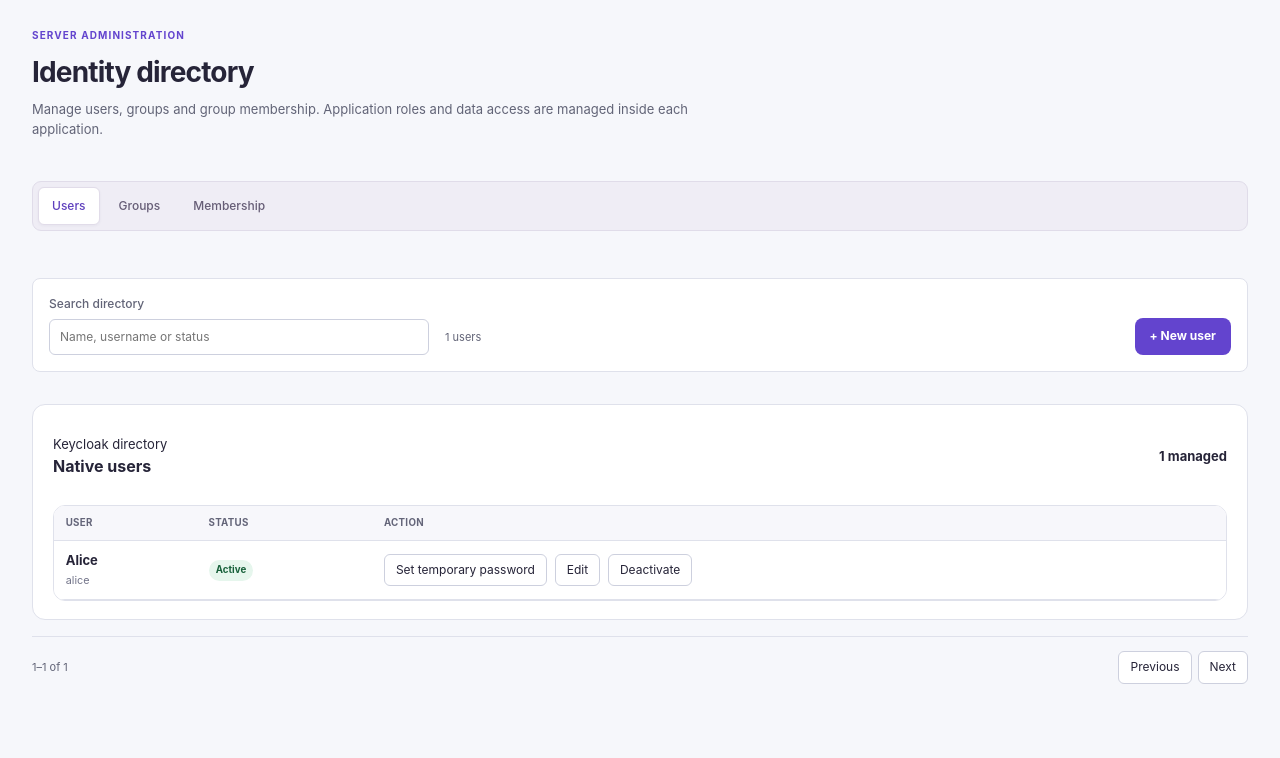
it: creates a native user through the reviewed platform write envelope
The width and height of the screenshot is (1280, 758).
Expected: the text "Alice" is shown, left=66, top=552, right=98, bottom=568
Click the button "+ New user" at {"x": 1183, "y": 336}, box left=1135, top=318, right=1231, bottom=354
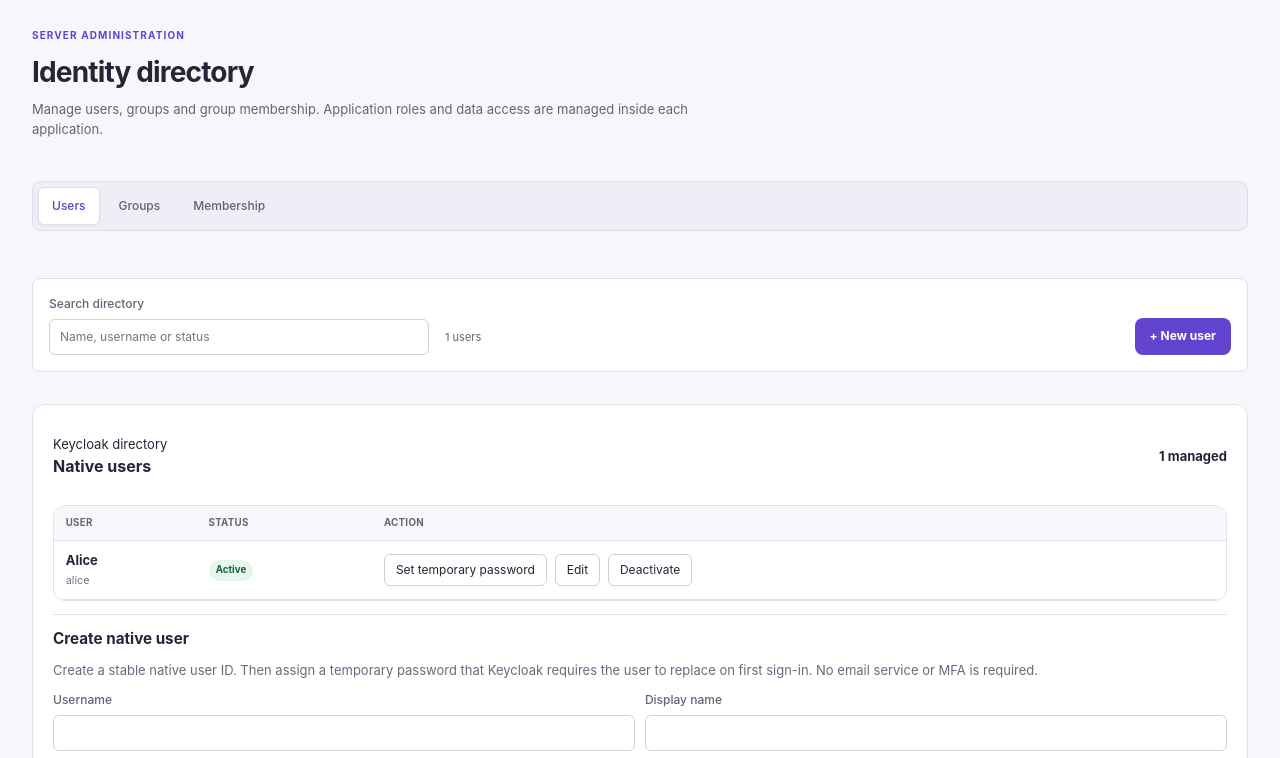
Expected: the text "Create native user" is shown, left=53, top=628, right=189, bottom=648
Type "bob" into the field labelled "Username" at {"x": 344, "y": 733}, box left=53, top=715, right=635, bottom=751
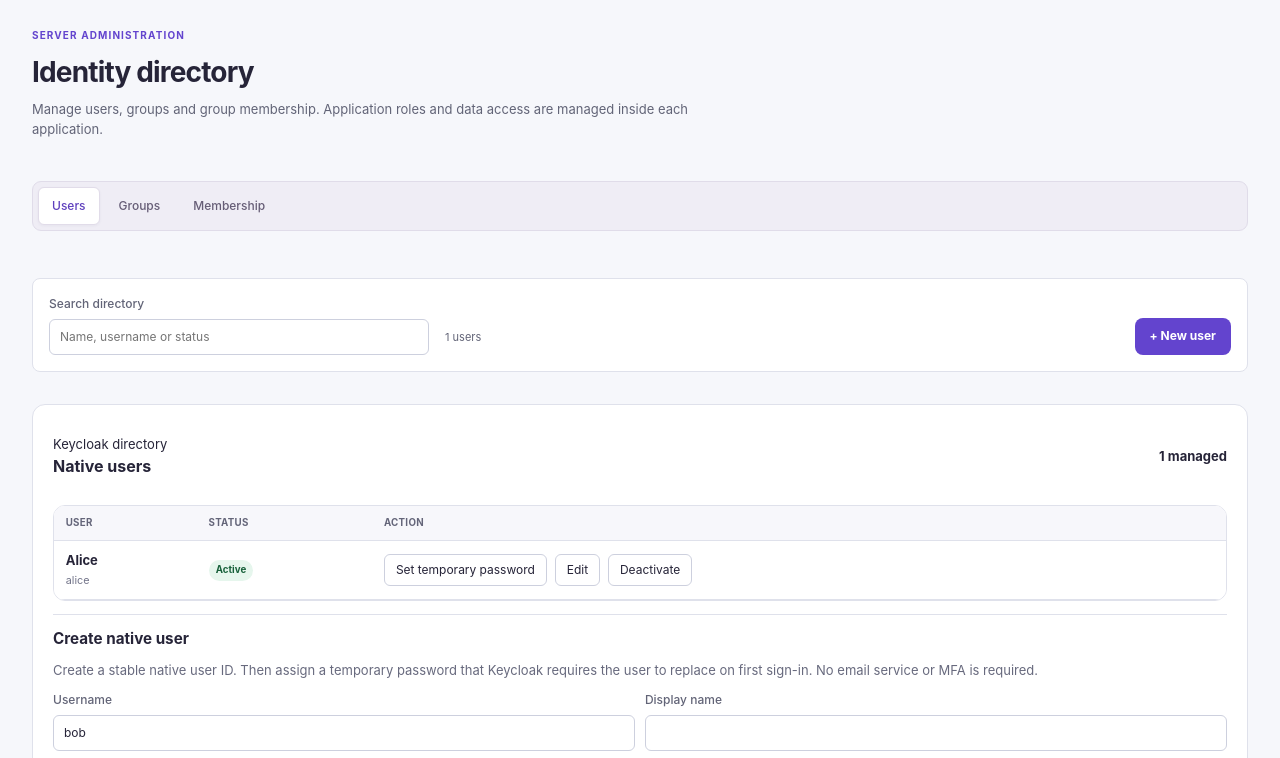
Type "Bob" into the field labelled "Display name" at {"x": 936, "y": 733}, box left=645, top=715, right=1227, bottom=751
(page scrolled)
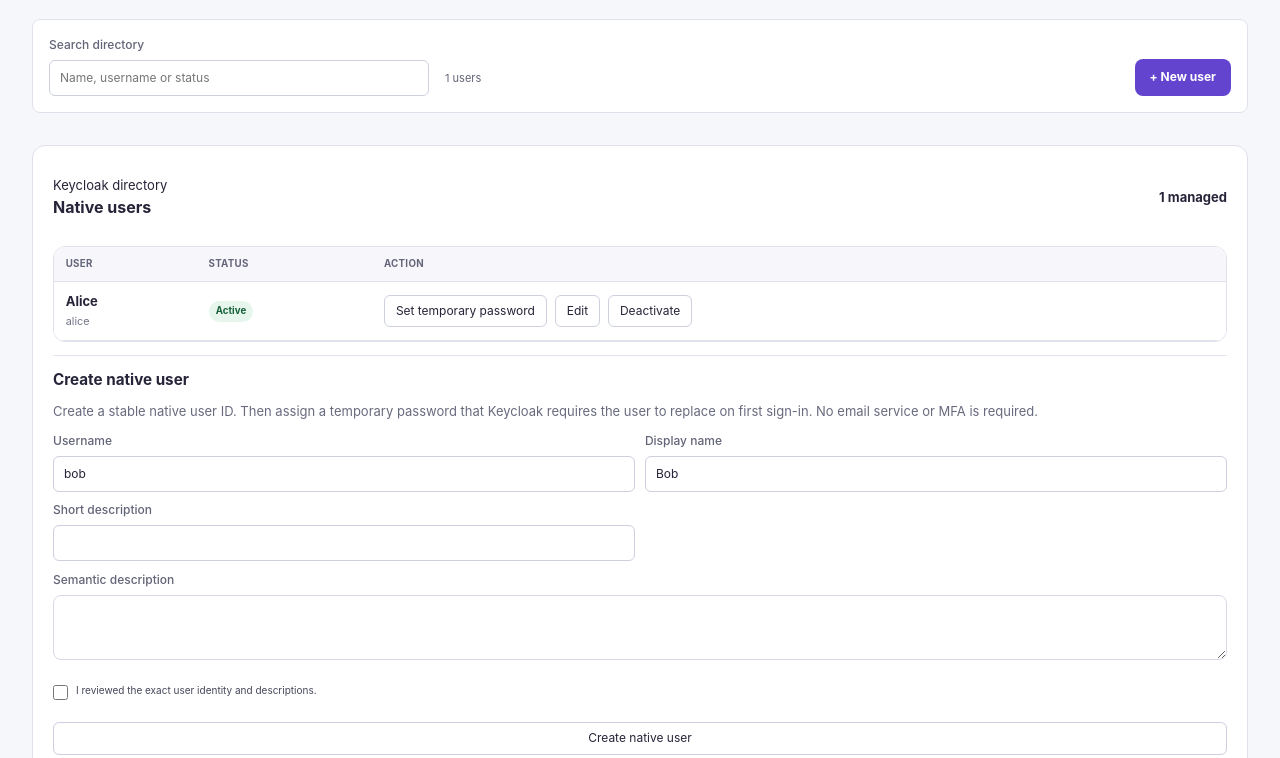
Click the checkbox labelled "I reviewed the exact user identity and descriptions." at {"x": 60, "y": 692}, box left=53, top=684, right=68, bottom=700
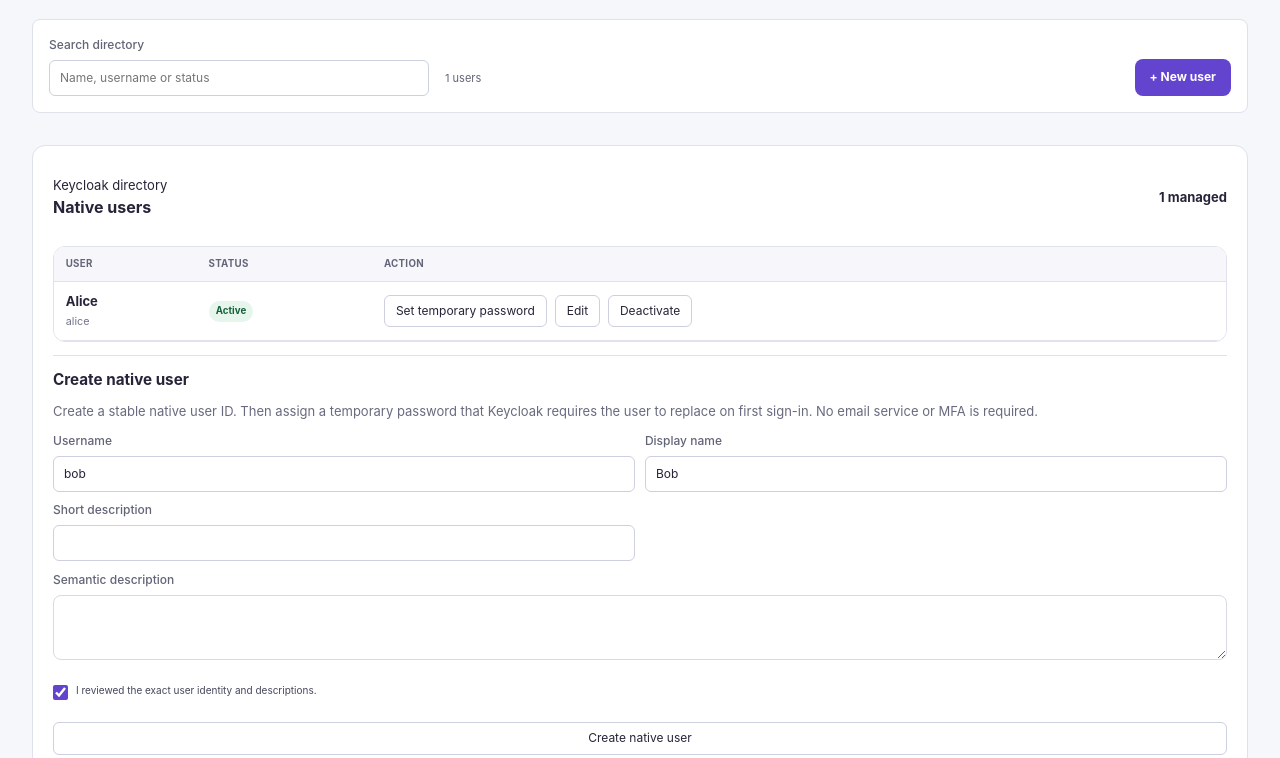
Click the button "Create native user" at {"x": 640, "y": 738}, box left=53, top=722, right=1227, bottom=755
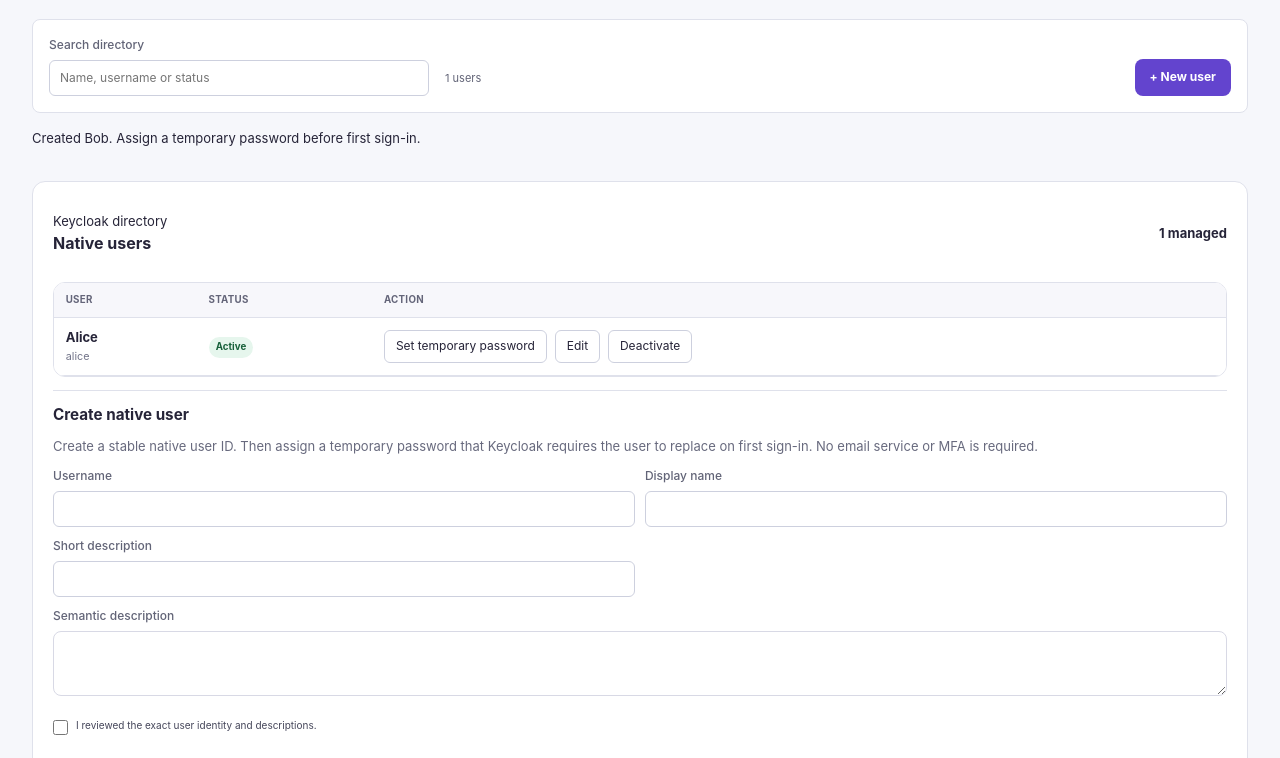
Expected: the text "Created Bob. Assign a temporary password before first sign-in." is shown, left=32, top=130, right=420, bottom=146
